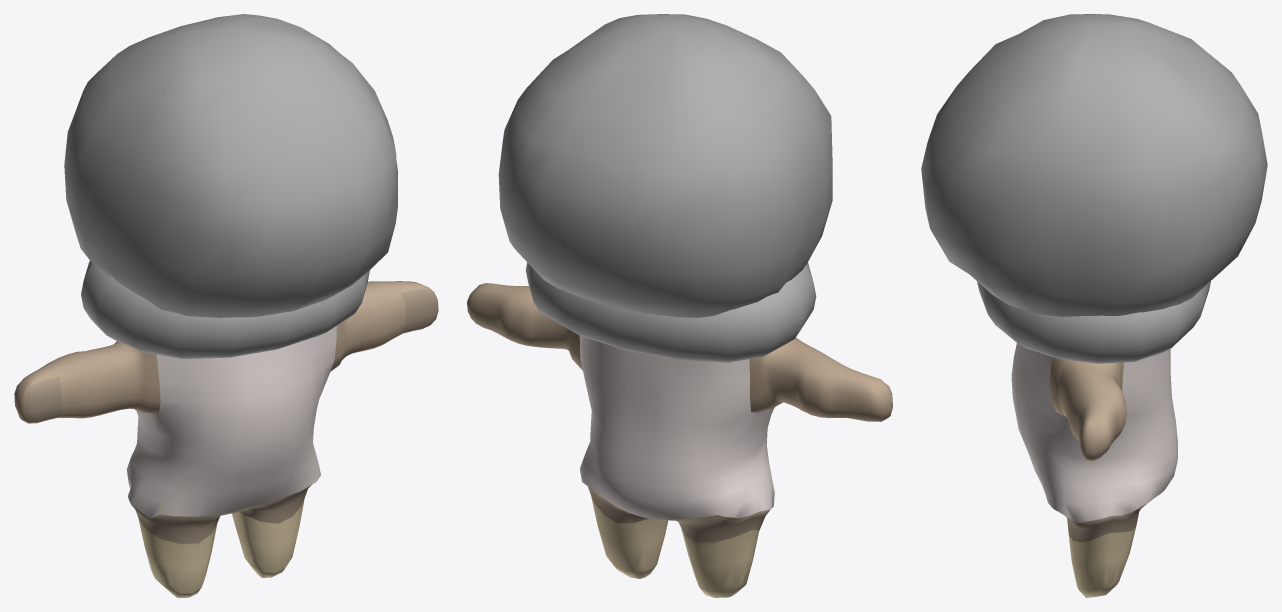
3 views of the same model, side by side, from view 1: azimuth 30°, elevation 25°; view 2: azimuth 150°, elevation 25°; view 3: azimuth 270°, elevation 25° (orthographic).
Parts seen in each view (by area): view 1: polySurface6, body, ring1; view 2: polySurface6, body, ring1; view 3: polySurface6, body, ring1.
Part boxes in pixels (bbox=[...]): polySurface6: bbox=[64, 14, 397, 317]; body: bbox=[14, 281, 438, 597]; ring1: bbox=[81, 261, 369, 358]; polySurface6: bbox=[498, 14, 832, 317]; body: bbox=[467, 283, 892, 597]; ring1: bbox=[525, 262, 816, 362]; polySurface6: bbox=[921, 14, 1267, 316]; body: bbox=[1011, 343, 1177, 597]; ring1: bbox=[977, 281, 1210, 363].
Size of the model in its own units: 4.28 by 5.43 by 3.09.
